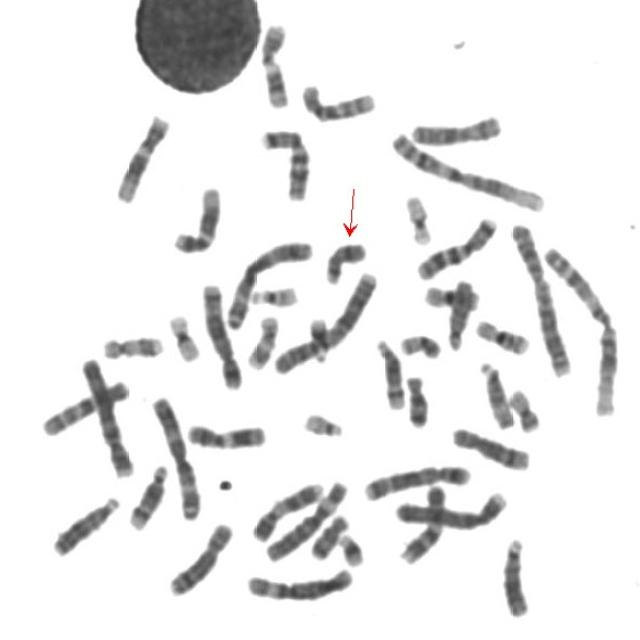A1: (539, 238, 626, 418), (386, 123, 549, 214)
A2: (269, 263, 382, 376), (506, 214, 576, 378)
A3: (221, 232, 316, 330), (146, 387, 204, 522)
B4: (75, 348, 139, 480), (391, 483, 512, 531)
B5: (197, 274, 246, 390), (359, 456, 476, 502)
C10: (36, 372, 135, 438), (295, 75, 381, 124)
C11: (256, 15, 295, 110), (182, 414, 271, 451)
C12: (110, 106, 174, 204), (168, 178, 226, 255)
C6: (260, 472, 352, 564), (242, 559, 358, 604)
C7: (413, 208, 501, 282), (255, 120, 315, 202)
C8: (164, 515, 238, 598), (446, 419, 536, 473)
C9: (248, 473, 328, 543), (395, 476, 451, 566)
D13: (47, 487, 124, 558), (498, 530, 534, 620)
D14: (124, 456, 172, 530), (371, 331, 409, 411)
D15: (474, 353, 518, 430), (443, 271, 480, 352)
E16: (470, 311, 535, 356), (419, 277, 484, 311)
E17: (242, 309, 282, 371), (98, 327, 168, 361)
E18: (306, 507, 352, 561), (400, 367, 434, 429)
F19: (163, 306, 205, 364), (399, 186, 436, 247)
F20: (504, 381, 545, 434), (395, 324, 445, 360)
G21: (305, 308, 335, 364), (334, 525, 368, 568)
G22: (299, 404, 348, 440), (245, 278, 302, 308)
X: (405, 106, 505, 147)
